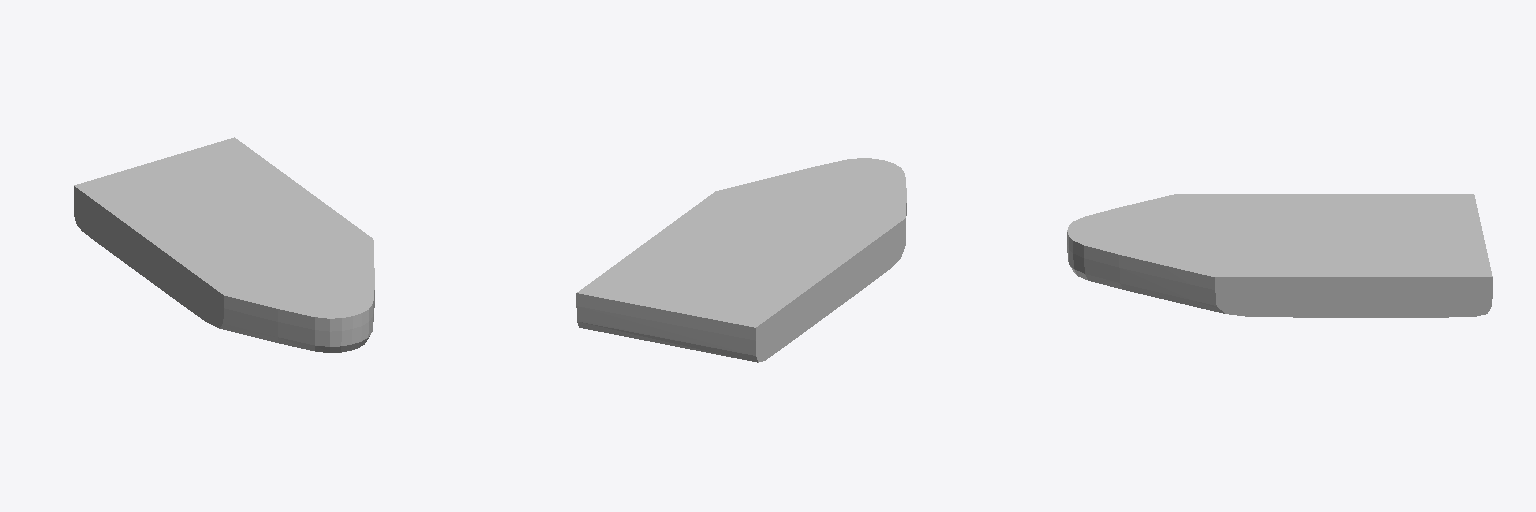
File: triangle_collision_7.obj
3 views of the same model, side by side, from view 1: azimuth 30°, elevation 25°; view 2: azimuth 150°, elevation 25°; view 3: azimuth 270°, elevation 25° (orthographic).
Size of the model in its own units: 0.0072 by 0.0016 by 0.0157.